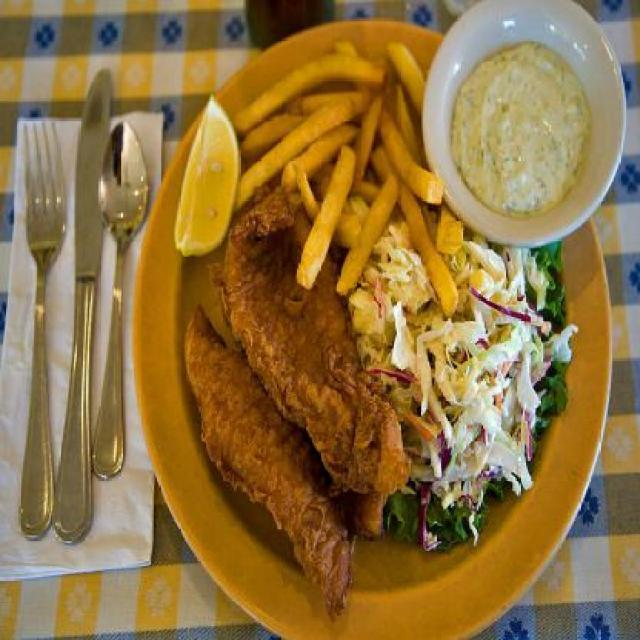French fries: (236, 26, 462, 311)
